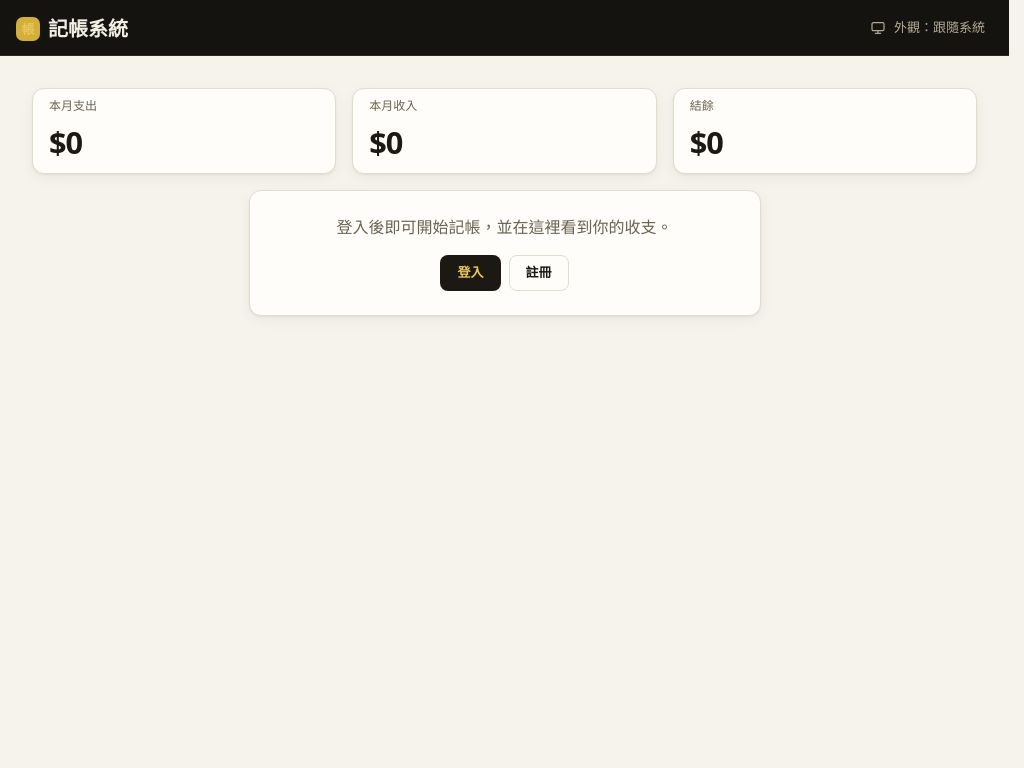
AuthDialog on the home page › signs in and turns the same page into the signed-in view
Click the button "登入" at (470, 273), box [440,255,500,291]
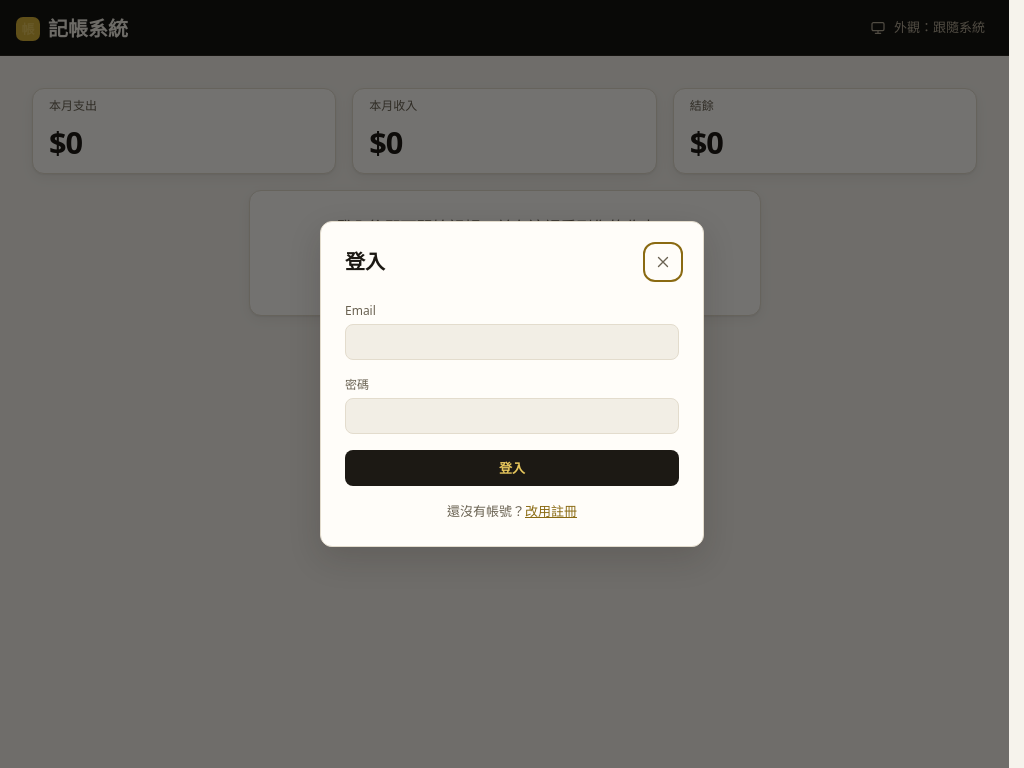
Type "alice@example.com" into the field labelled "Email" at (512, 342), box [345,324,679,360]
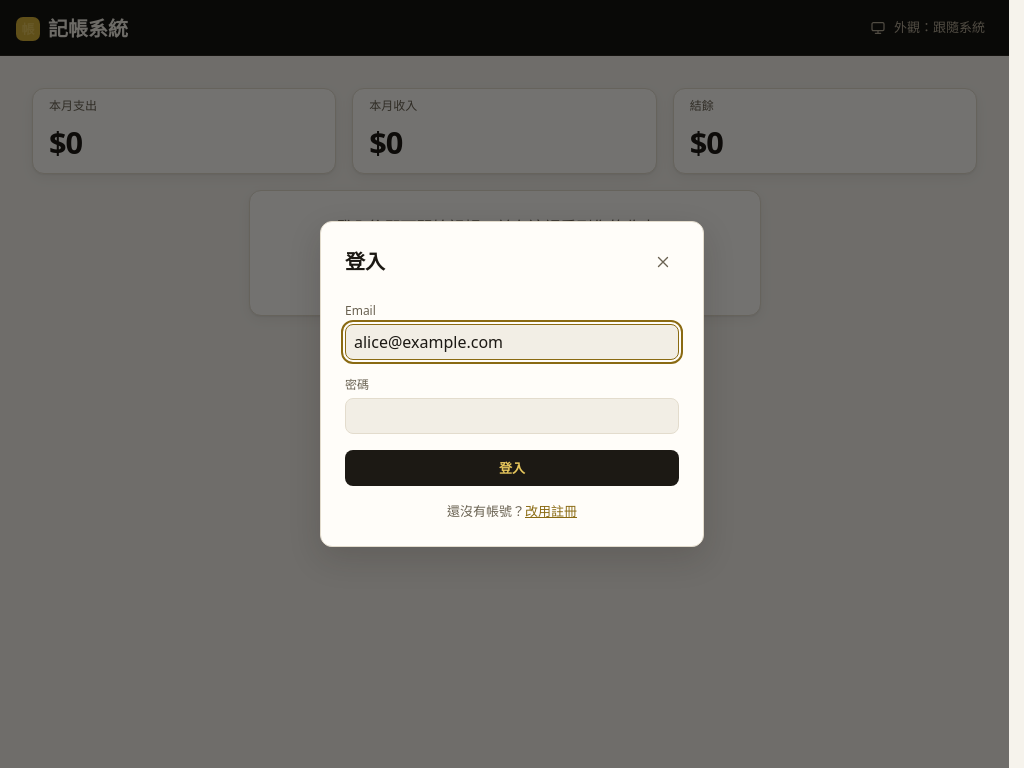
Type "sup3rsecret" into the password field labelled "密碼" at (512, 416), box [345,398,679,434]
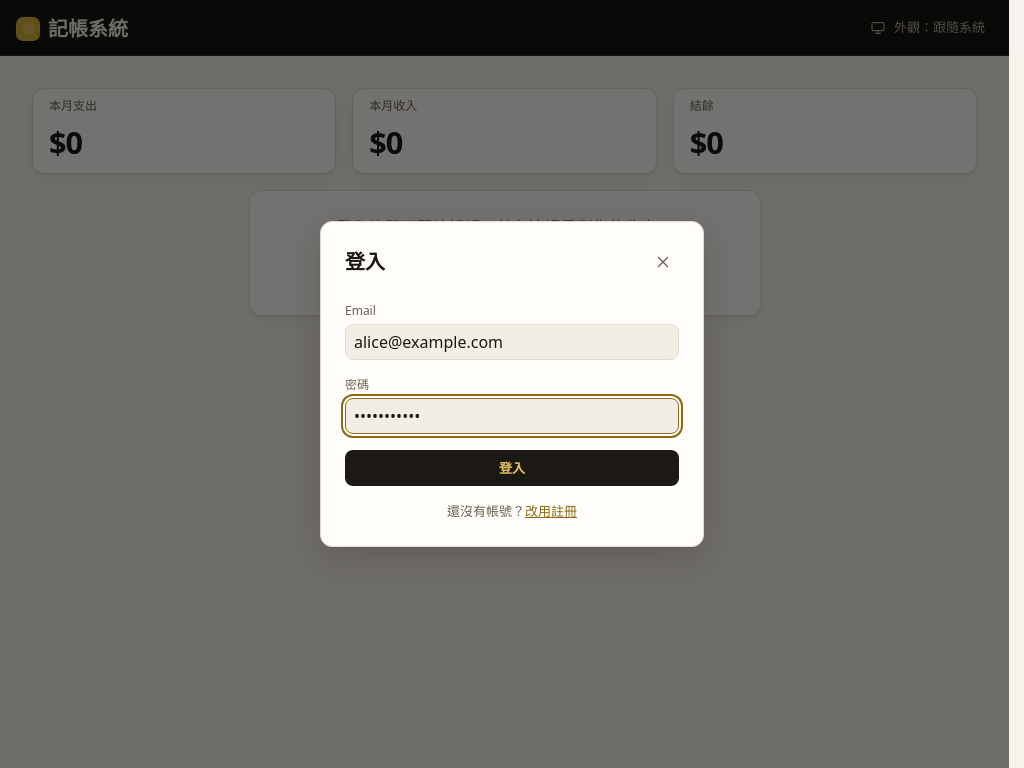
Click the button "登入" at (512, 468), box [345,450,679,486]
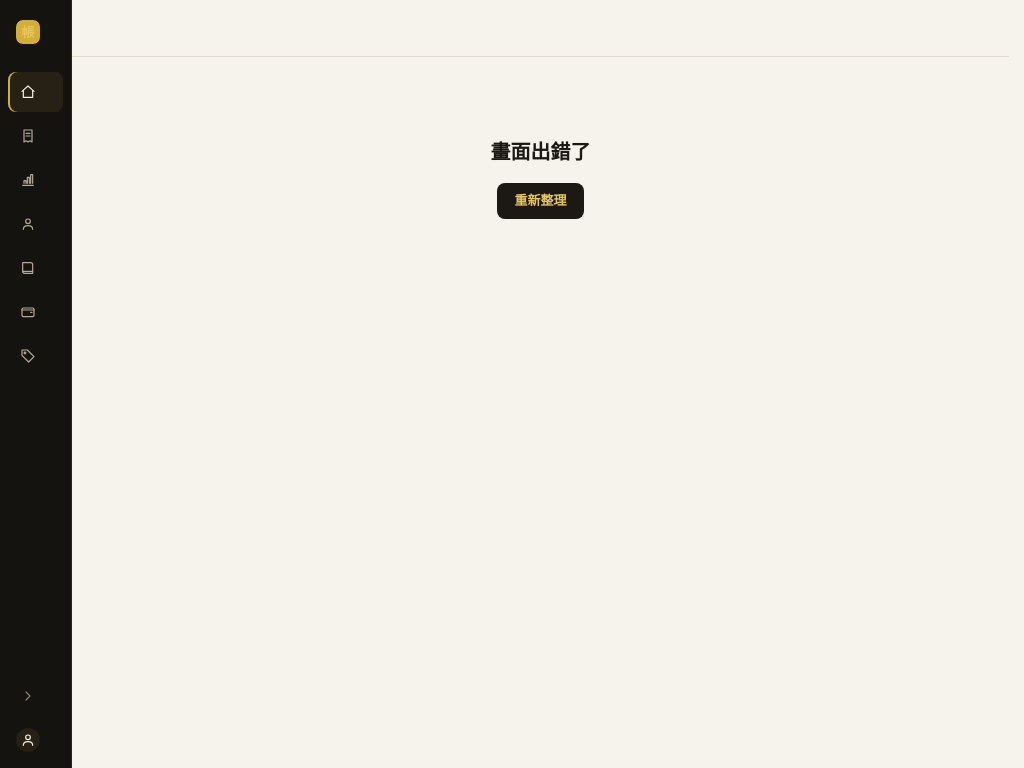
// 登出移進使用者選單（2i SC-32），所以要先打開選單才看得到它。
Click the button named "帳號選單" at (36, 740), box [8,720,63,760]
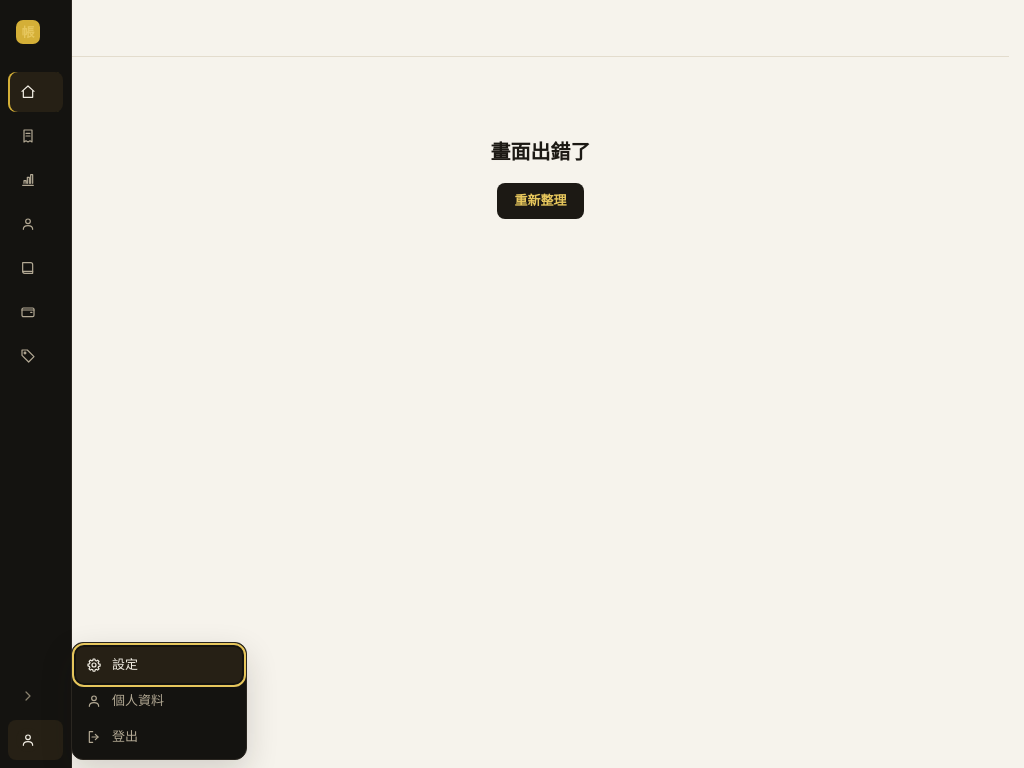
Expected: the button "登出" is shown, [76,719,242,755]
